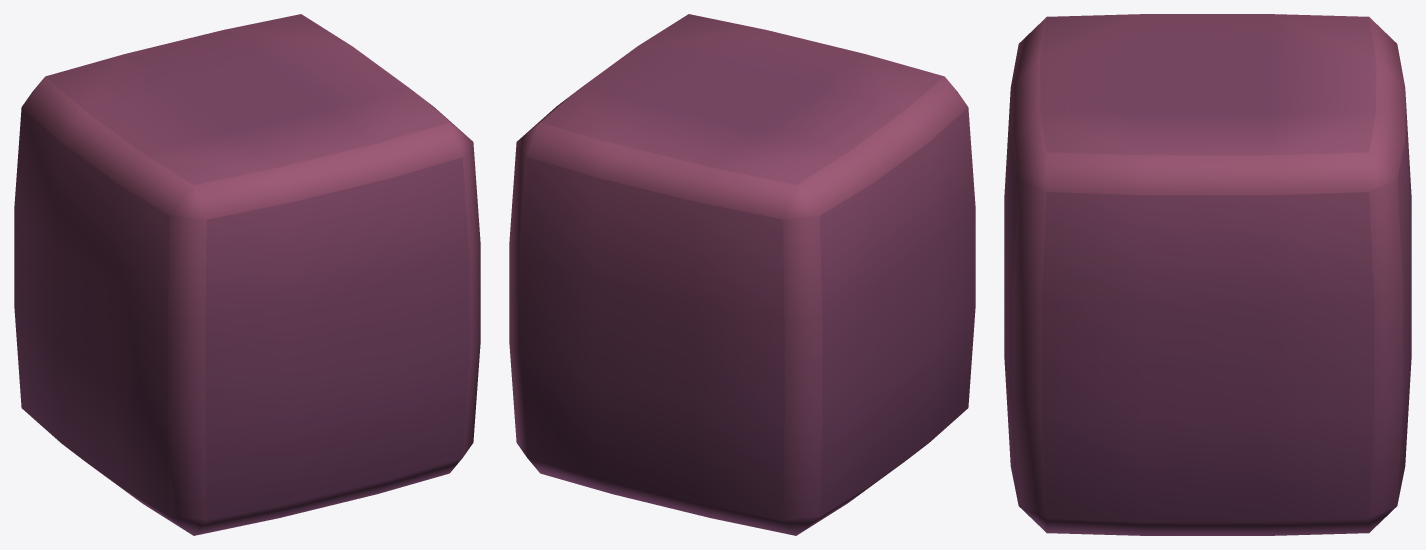
Rendered from cube_1m_second.fbx.
3 views of the same model, side by side, from view 1: azimuth 30°, elevation 25°; view 2: azimuth 150°, elevation 25°; view 3: azimuth 270°, elevation 25° (orthographic). The views are drawn at different scales.
Parts seen in each view (by area): view 1: cube_1m_second; view 2: cube_1m_second; view 3: cube_1m_second.
Part boxes in pixels (<box>): cube_1m_second: <box>14,14,480,535</box>; cube_1m_second: <box>509,14,975,535</box>; cube_1m_second: <box>1004,14,1411,535</box>.
Size of the model in its own units: 112 by 115 by 112.
